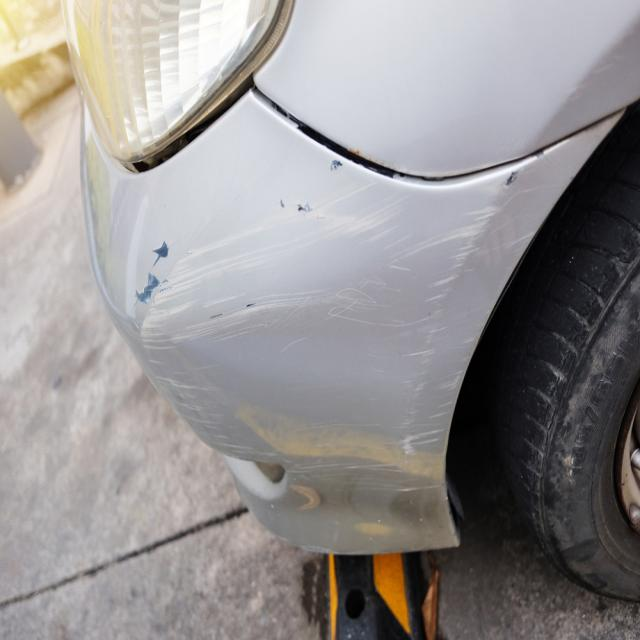scratch: (136, 164, 541, 497)
